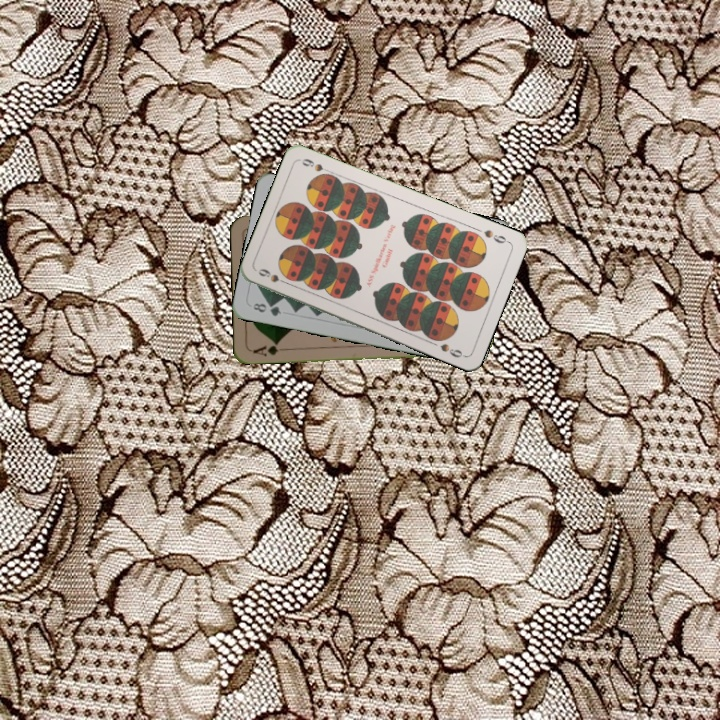G8: (249, 299, 284, 319)
GA: (249, 339, 289, 359)
S9: (254, 264, 293, 288), (480, 225, 512, 246)
